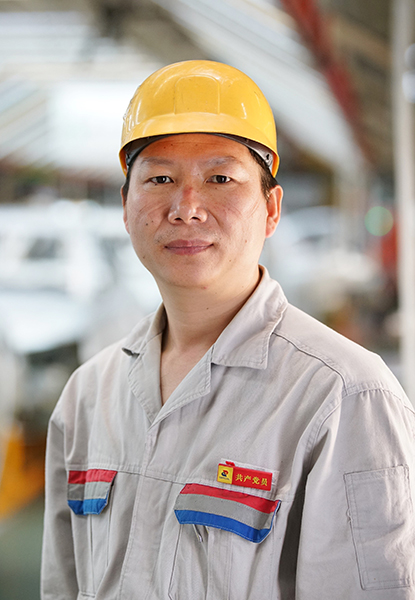safetyhat: (33, 53, 380, 573)
